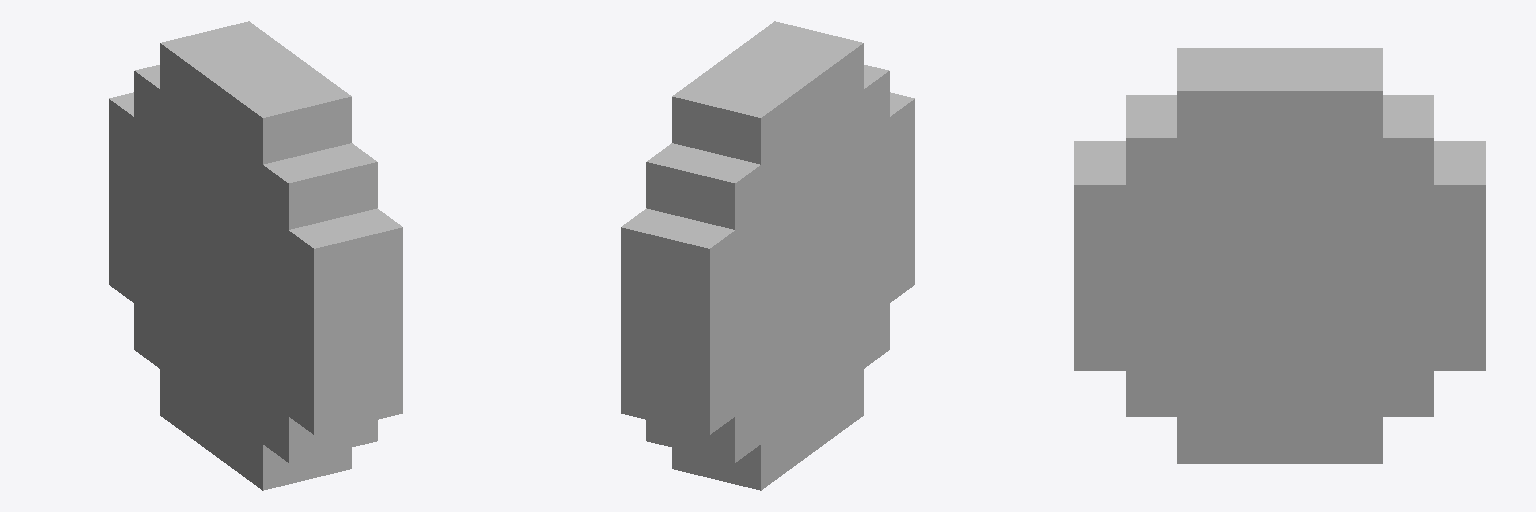
The model's file is wheel 1.obj.
The picture shows the model from 3 angles: view 1: azimuth 30°, elevation 25°; view 2: azimuth 150°, elevation 25°; view 3: azimuth 270°, elevation 25°; orthographic projection.
Visible parts, largest first — view 1: object 1; view 2: object 1; view 3: object 1.
Boxes of the visible parts, <box> form: object 1: <box>109,21,402,490</box>; object 1: <box>621,21,914,490</box>; object 1: <box>1074,48,1485,463</box>.
Size of the model in its own units: 0.2 by 0.8 by 0.8.